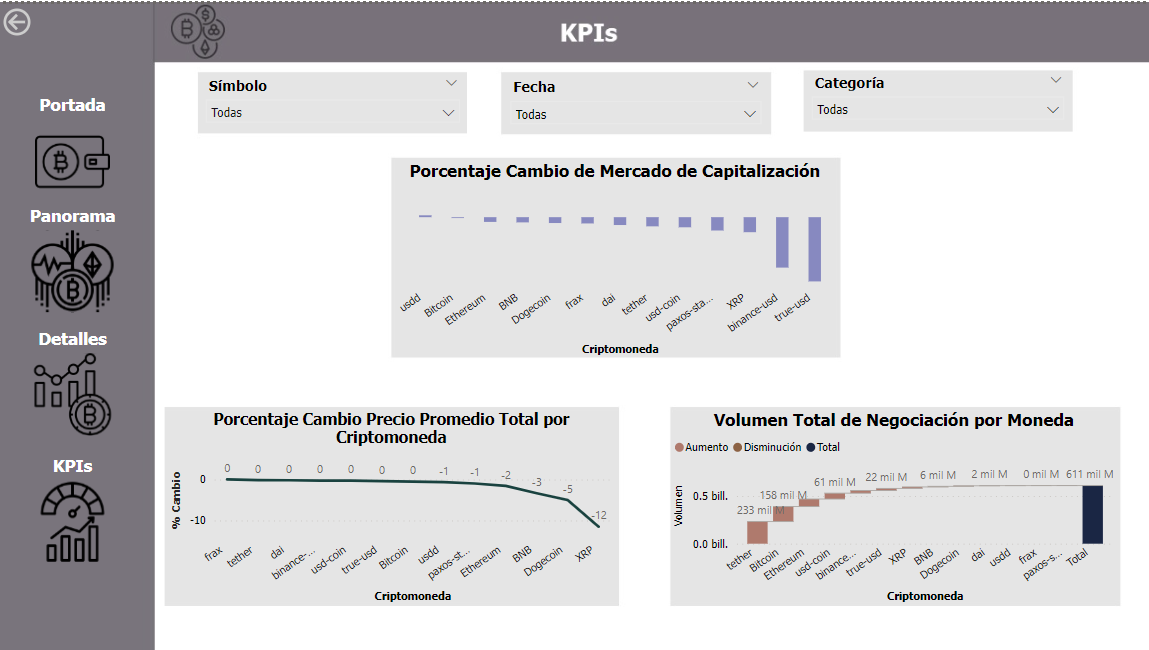

The page's visual inventory and layout, read from the dashboard file:
{"tool":"powerbi","page":{"name":"KPIs","canvas":[1280,720],"ordinal":3},"visuals":[{"type":"ribbonChart","title":"Porcentaje Cambio de Mercado de Capitalización","fields":{"Category":["Cryptocurrency.Currency"],"Y":["Cryptocurrency.Porcentaje Cambio MarketCap Total"]},"box":[435,173.3,498.3,221.7],"z":0},{"type":"lineChart","title":"Porcentaje Cambio Precio Promedio Total por Criptomoneda","fields":{"Y":["Cryptocurrency.Porcentaje Cambio Precio Promedio Total"],"Category":["Cryptocurrency.Currency"]},"box":[186.7,450,498.3,220],"z":1000},{"type":"waterfallChart","title":"Volumen Total de Negociación por Moneda","fields":{"Category":["Cripto_Id.Currency"],"Y":["Cryptocurrency.Volumen Total de Negociación por Criptomoneda"]},"box":[745,450,498.3,220],"z":2000},{"type":"slicer","fields":{"Values":["Cripto_Id.Symbol"]},"box":[220,75,301.7,68.3],"z":3000},{"type":"slicer","fields":{"Values":["calendario.Date"]},"box":[558.3,76.7,298.3,66.7],"z":4000},{"type":"slicer","fields":{"Values":["Cripto_Id.Category"]},"box":[893.3,71.7,300,75],"z":5000},{"type":"actionButton","title":"Portada","box":[0,100,163.3,123.3],"z":5001},{"type":"actionButton","title":"Panorama","box":[0,223.3,163.3,123.3],"z":5002},{"type":"actionButton","title":"Detalles","box":[0,360,163.3,123.3],"z":5003},{"type":"actionButton","title":"KPIs","box":[0,501.7,163.3,123.3],"z":5004},{"type":"actionButton","box":[0,0,100,40],"z":5005}]}

Visuals, with their boxes on the page's 1280x720 design canvas (x1, y1, x2, y2). These are canvas units, not pixel positions in the 1149x650 screenshot, which may show the page scaled, cropped or inside an application window:
"Porcentaje Cambio de Mercado de Capitalización" ribbonChart: region(435, 173, 933, 395)
"Porcentaje Cambio Precio Promedio Total por Criptomoneda" lineChart: region(187, 450, 685, 670)
"Volumen Total de Negociación por Moneda" waterfallChart: region(745, 450, 1243, 670)
slicer - Cripto_Id.Symbol: region(220, 75, 522, 143)
slicer - calendario.Date: region(558, 77, 857, 143)
slicer - Cripto_Id.Category: region(893, 72, 1193, 147)
"Portada" actionButton: region(0, 100, 163, 223)
"Panorama" actionButton: region(0, 223, 163, 347)
"Detalles" actionButton: region(0, 360, 163, 483)
"KPIs" actionButton: region(0, 502, 163, 625)
actionButton: region(0, 0, 100, 40)
